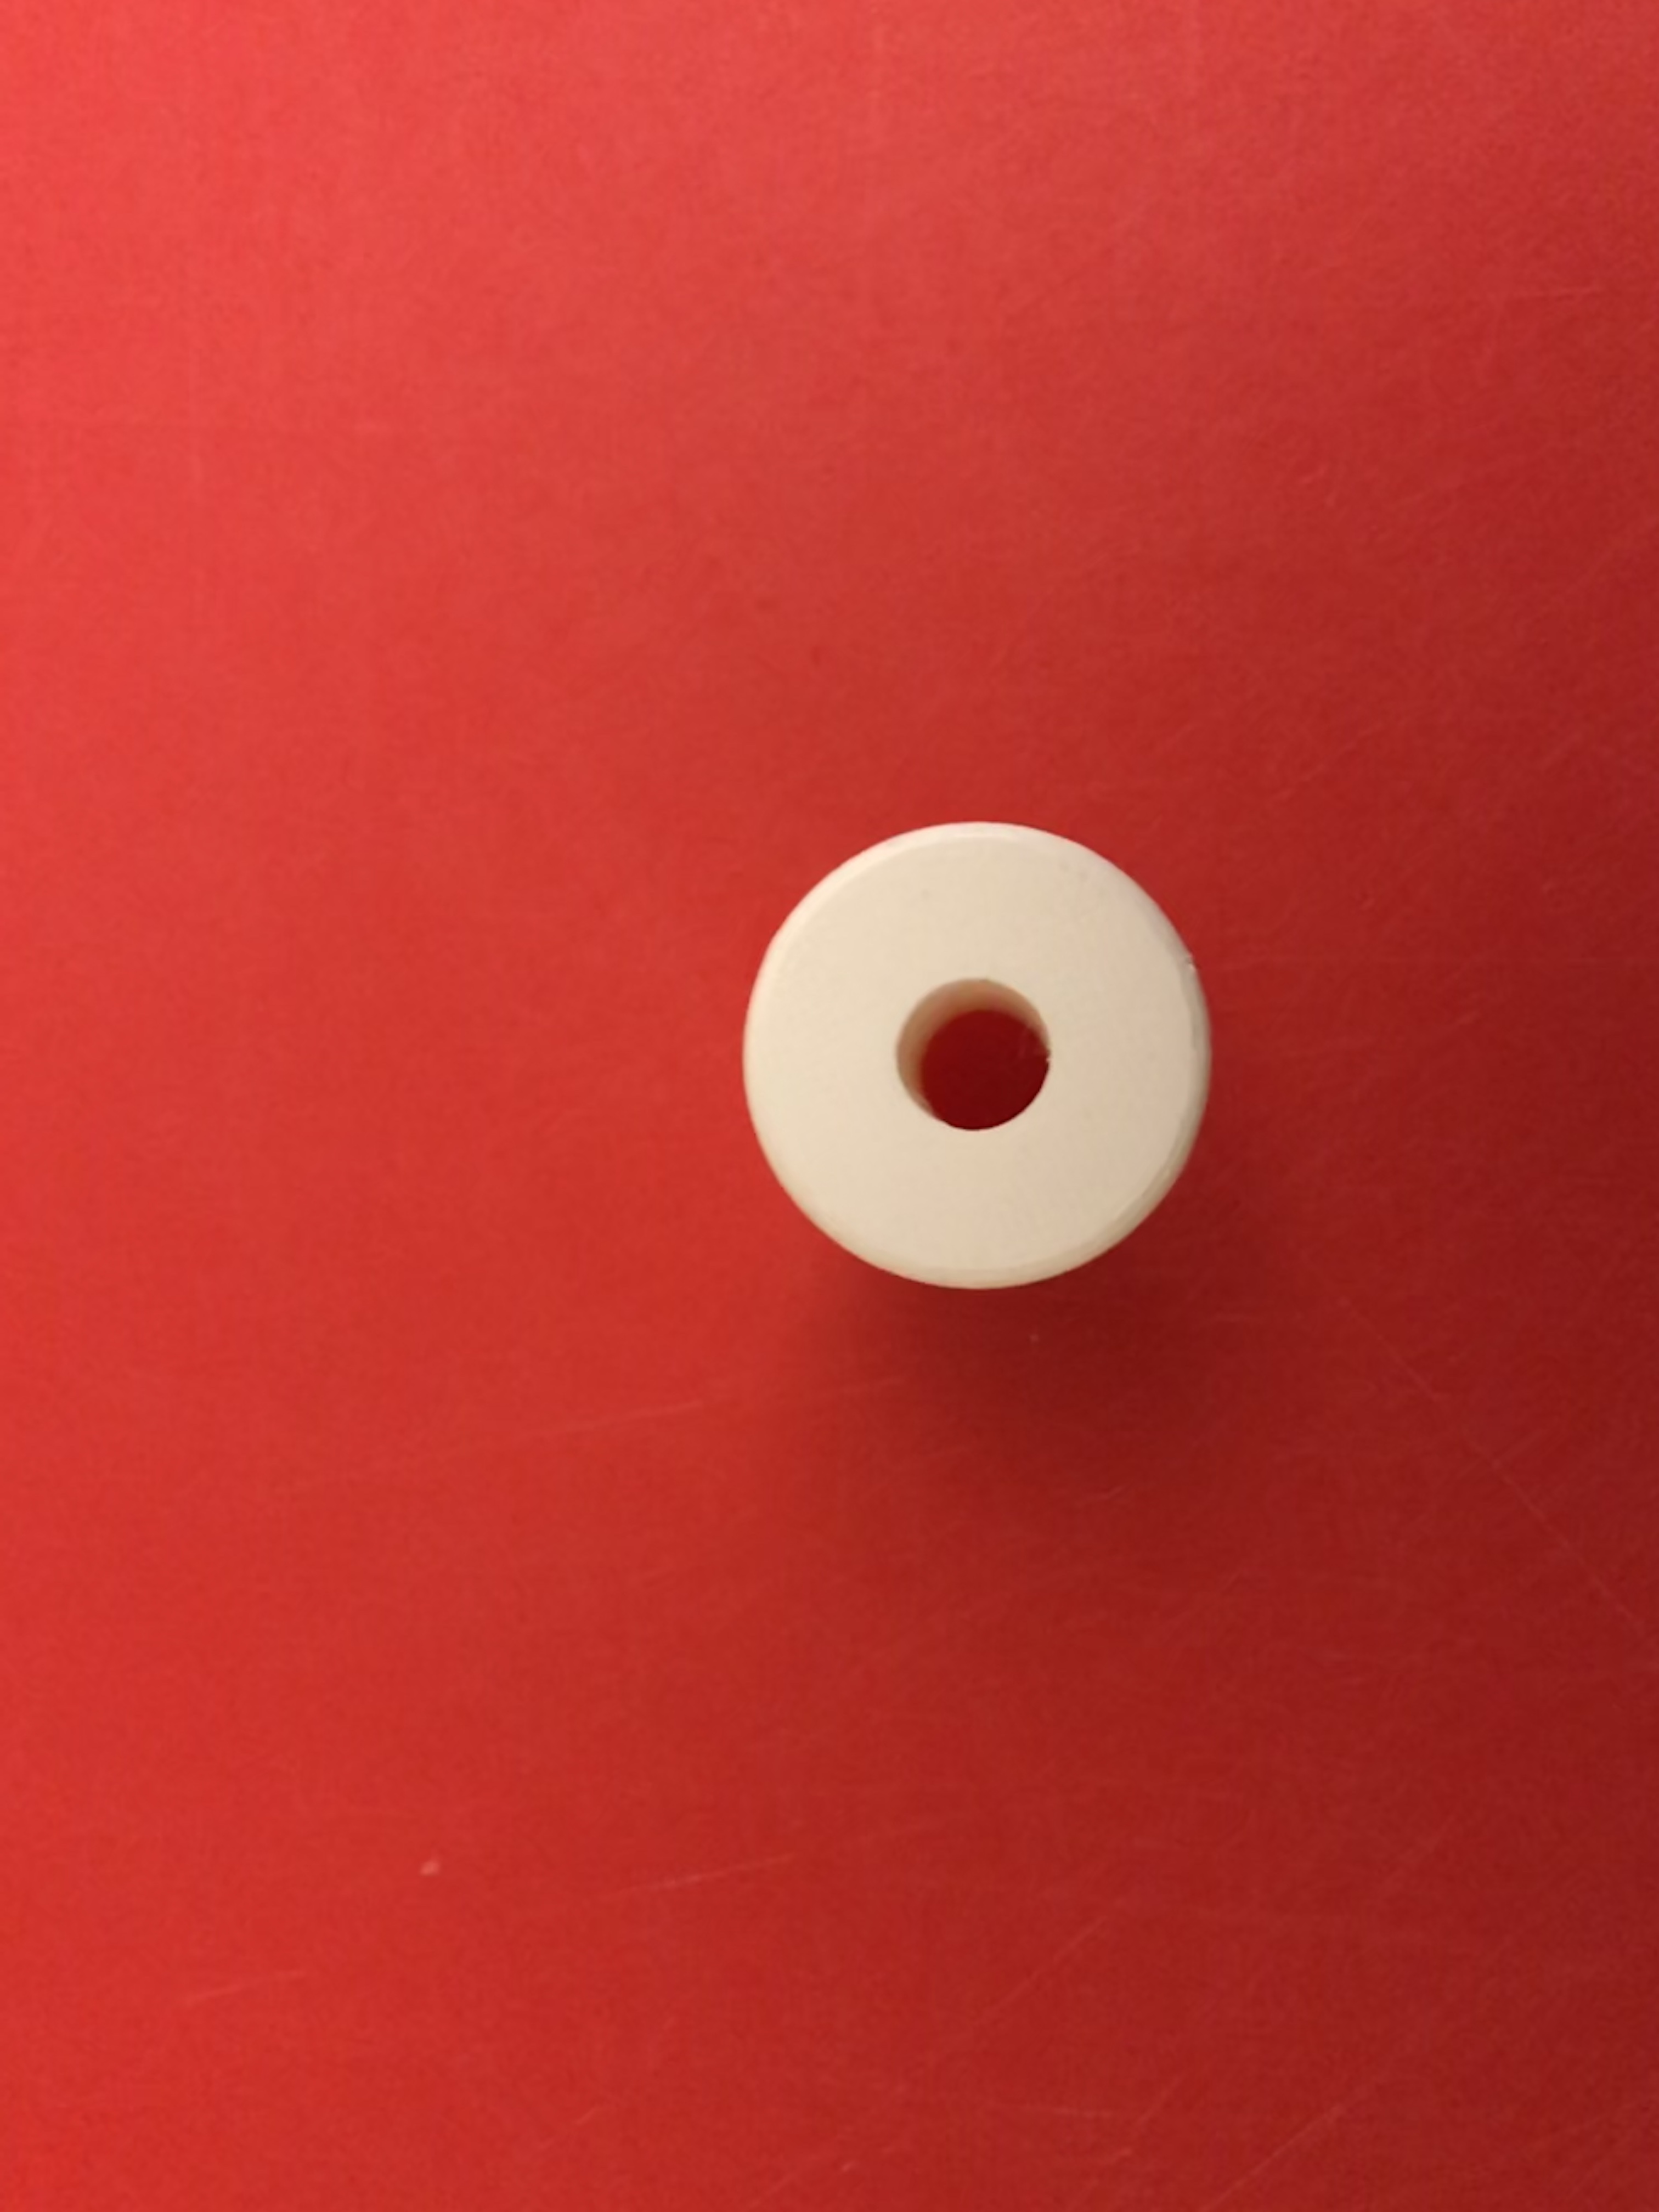White Cone: (739, 820, 1202, 1287)
